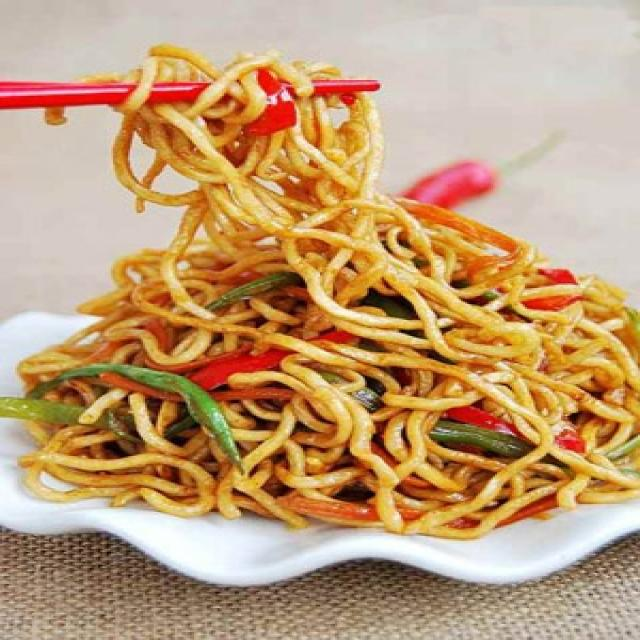面条主食: (6, 29, 636, 592)
